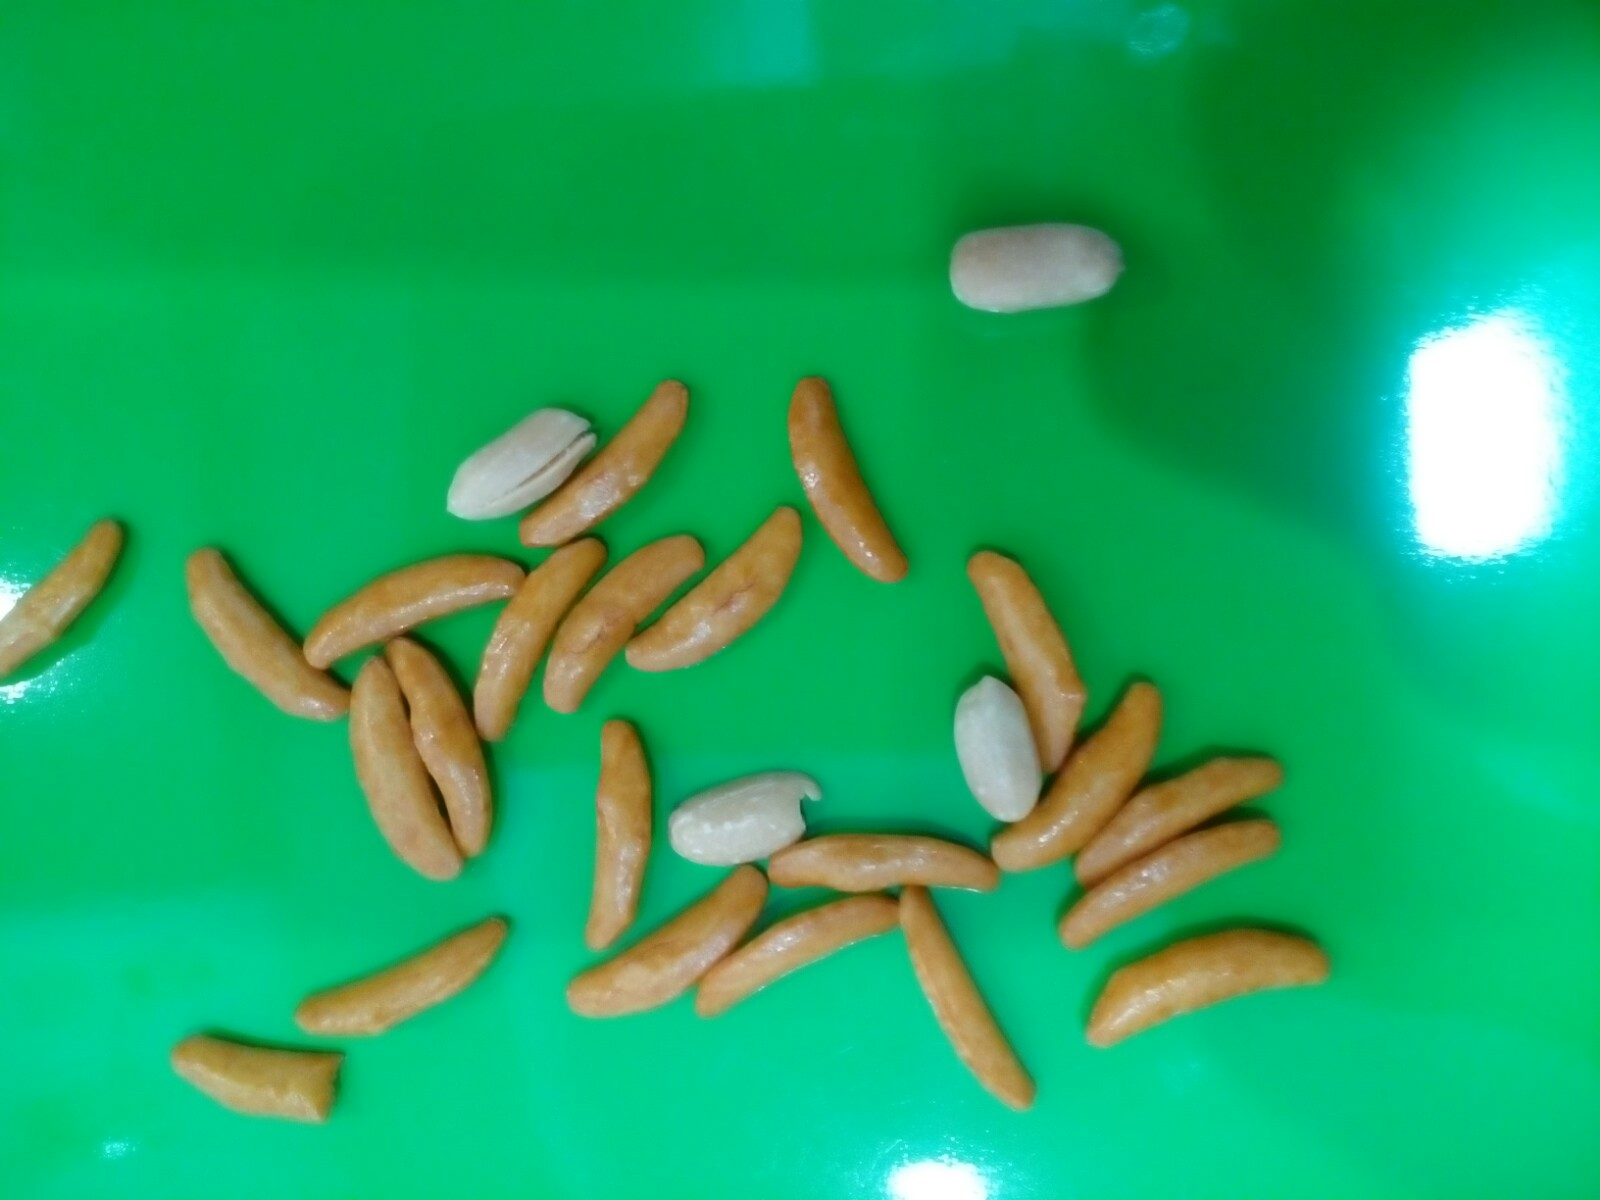peanut: (944, 209, 1140, 335), (661, 758, 819, 892), (449, 392, 602, 528), (947, 663, 1049, 829)
